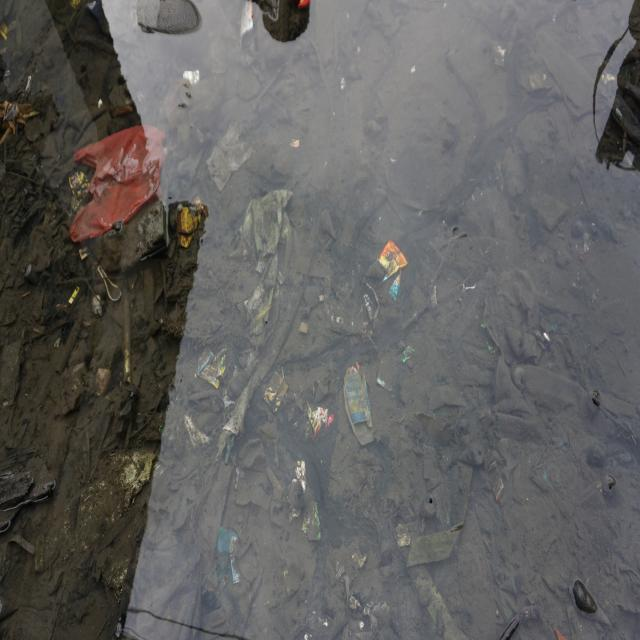Kantong Plastik: (69, 123, 167, 247)
